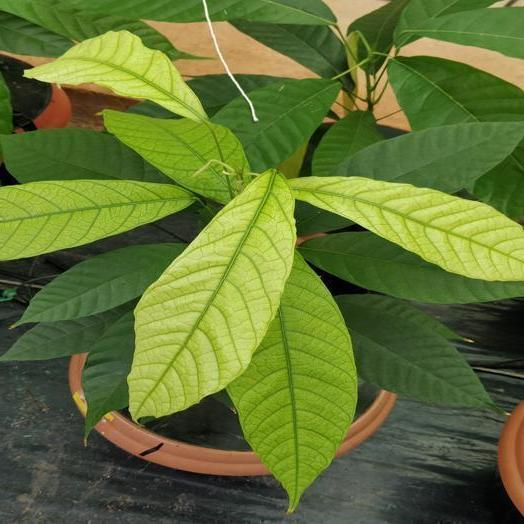Iron: (127, 170, 294, 419), (228, 253, 357, 511), (289, 177, 523, 279), (27, 31, 207, 121), (0, 182, 192, 259), (104, 110, 249, 203)
